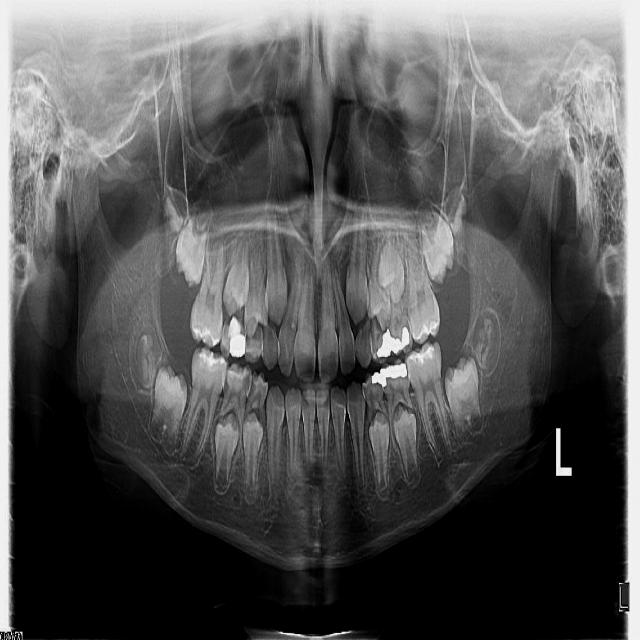Filling: (409, 344, 434, 367), (389, 327, 410, 354), (382, 361, 408, 382), (418, 319, 438, 342), (376, 328, 391, 358), (230, 334, 246, 357), (371, 372, 383, 387)
